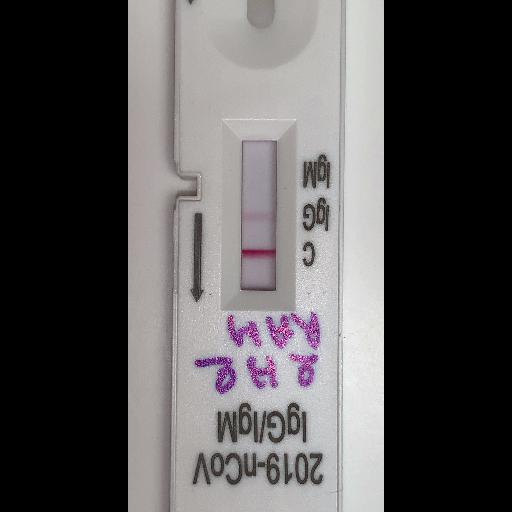Pos: (172, 0, 340, 511)
